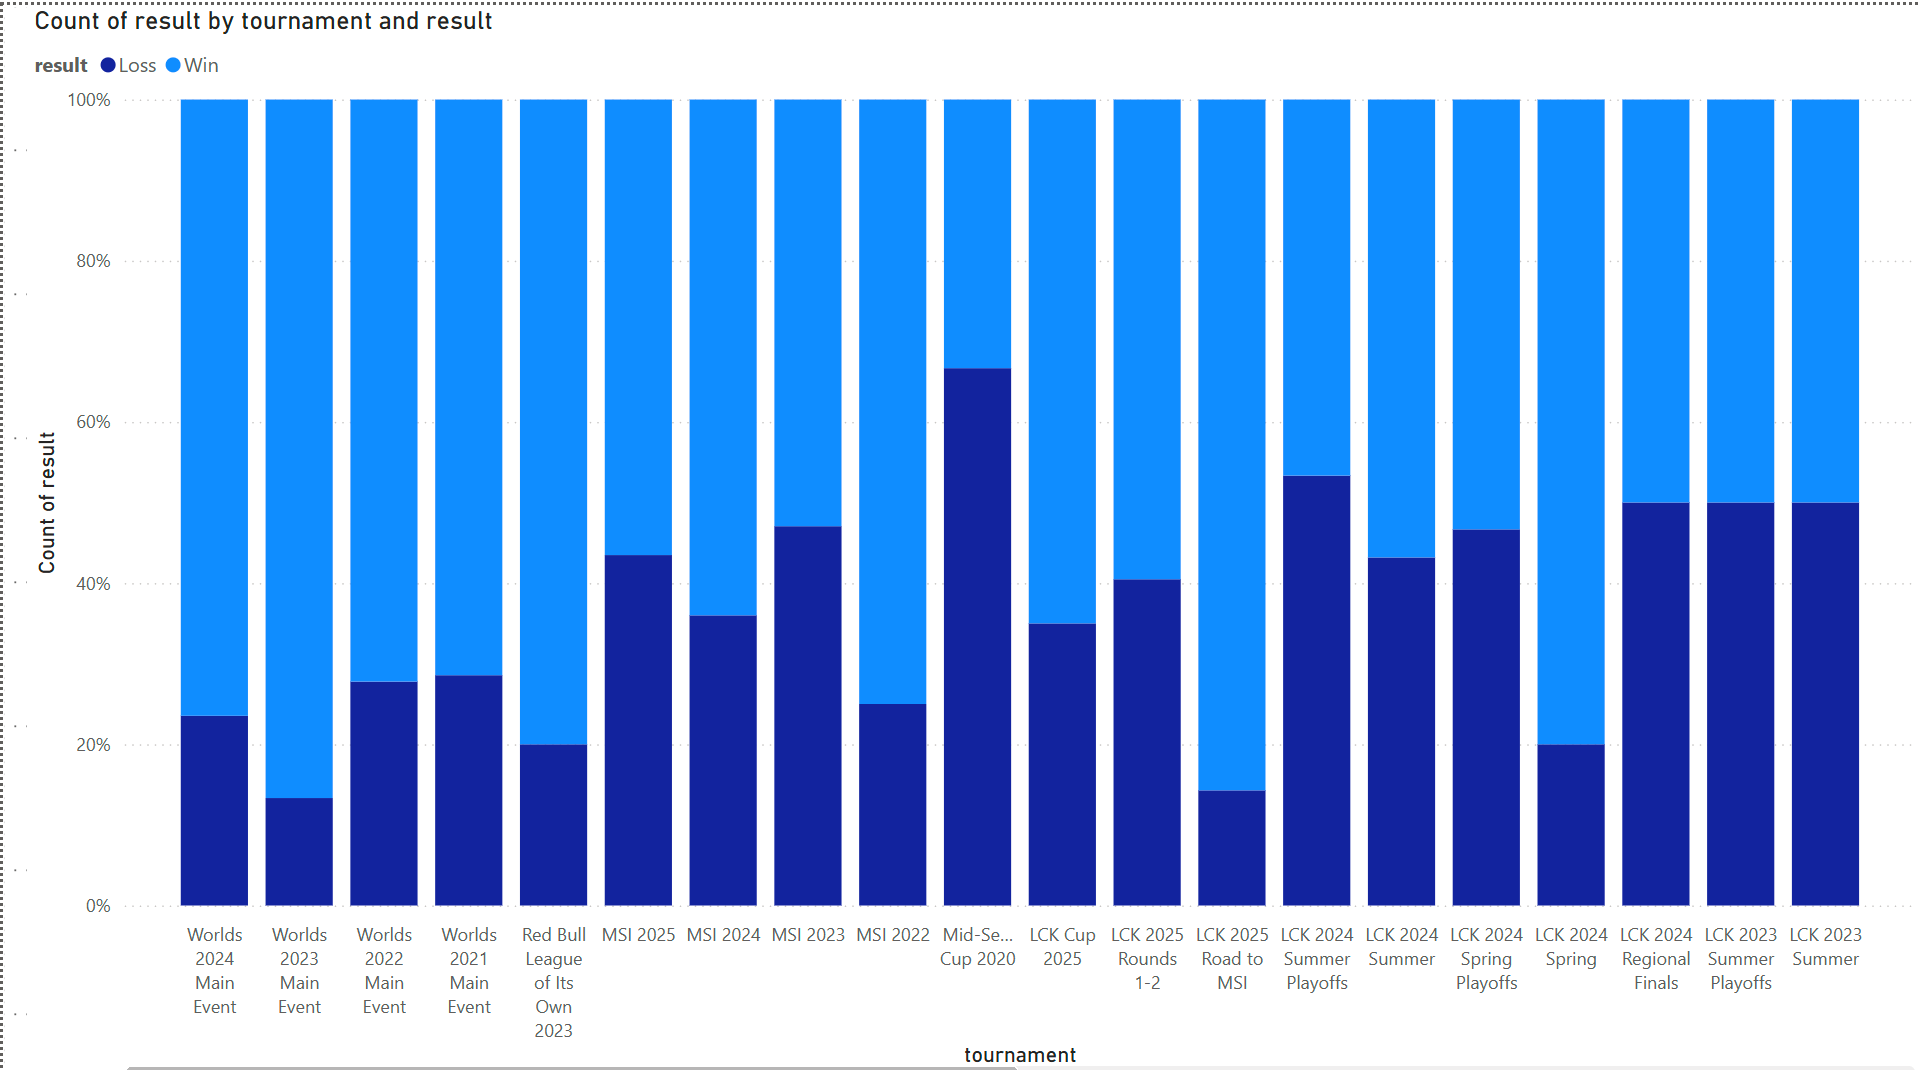

The dashboard page shown, as its layout file describes it:
{"tool":"powerbi","page":{"name":"Tournament result","canvas":[1280,720],"ordinal":2},"visuals":[{"type":"hundredPercentStackedColumnChart","fields":{"Category":["T1_Match_History.tournament"],"Y":["CountNonNull(T1_Match_History.result)"],"Series":["T1_Match_History.result"]},"box":[16,0,1264,720],"z":0}]}

Visuals, with their boxes in screenshot pixels (x1, y1, x2, y2), scaled from the page's 1280x720 canvas onto the 1922x1070 screenshot:
hundredPercentStackedColumnChart - T1_Match_History.tournament x CountNonNull(T1_Match_History.result): [24, 0, 1921, 1069]
